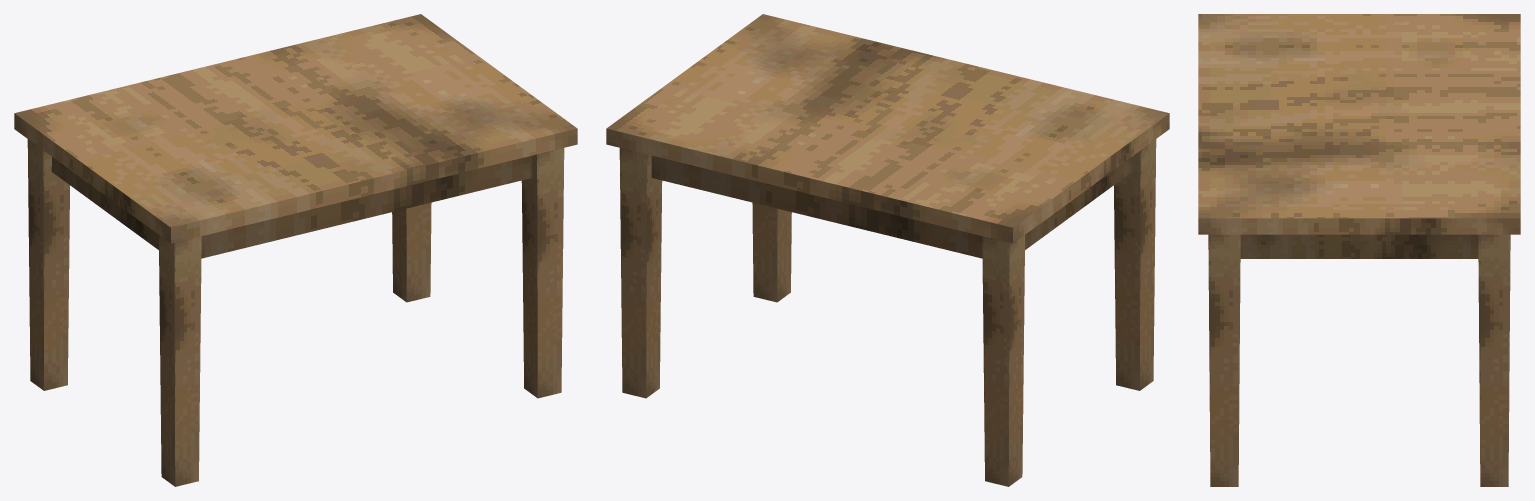
Rendered from table_pine.glb.
3 views of the same model, side by side, from view 1: azimuth 30°, elevation 25°; view 2: azimuth 150°, elevation 25°; view 3: azimuth 270°, elevation 25° (orthographic). The views are drawn at different scales.
Visible parts, largest first — view 1: table_pine; view 2: table_pine; view 3: table_pine.
Part boxes in pixels (x1,y1,x2,y2): table_pine: (14,14,577,486); table_pine: (606,14,1169,486); table_pine: (1198,14,1520,486).
Size of the model in its own units: 1.2 by 0.75 by 0.8.
Materials: 1 (1 with a texture image).
